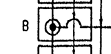Single Phase Tap-Off Unit: (35, 4, 95, 44)
